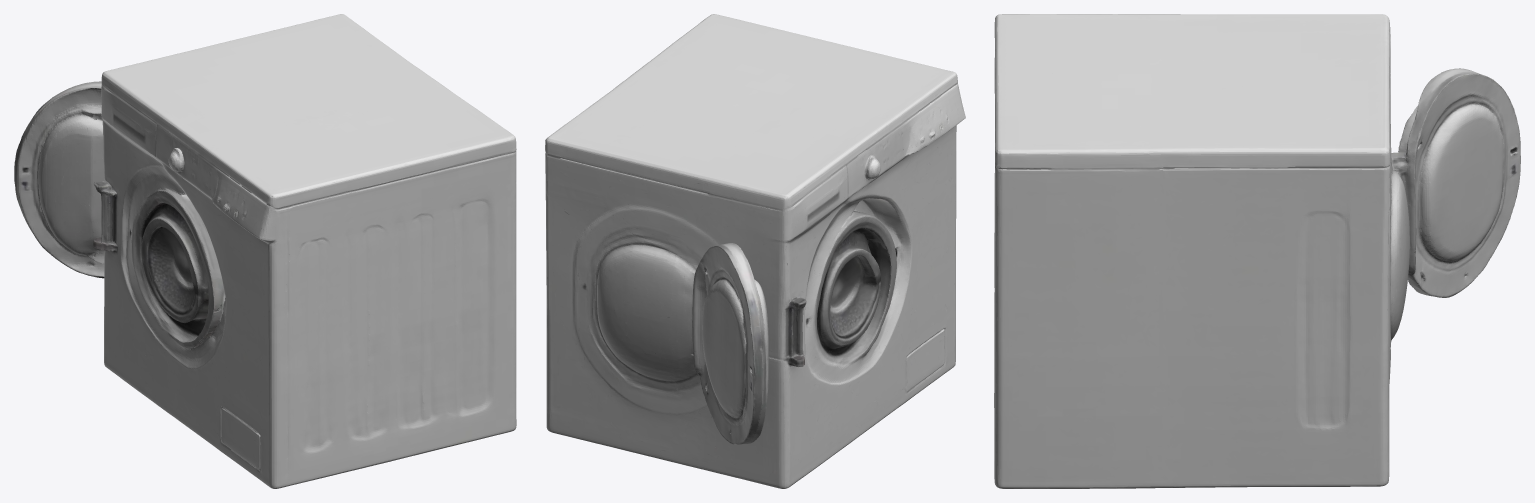
3 views of the same model, side by side, from view 1: azimuth 30°, elevation 25°; view 2: azimuth 150°, elevation 25°; view 3: azimuth 270°, elevation 25° (orthographic). The views are drawn at different scales.
Parts seen in each view (by area): view 1: geometry_0, visual__1__door; view 2: geometry_0, visual__1__door; view 3: geometry_0, visual__1__door.
Part boxes in pixels (x1,y1,x2,y2): geometry_0: (14, 14, 516, 488); visual__1__door: (23, 81, 104, 278); geometry_0: (545, 14, 965, 488); visual__1__door: (697, 227, 786, 453); geometry_0: (994, 14, 1416, 488); visual__1__door: (1391, 68, 1520, 297).
Bounding box in the file's own units: 0.8386 × 0.85 × 1.2.
Materials: 1 (1 with a texture image).
